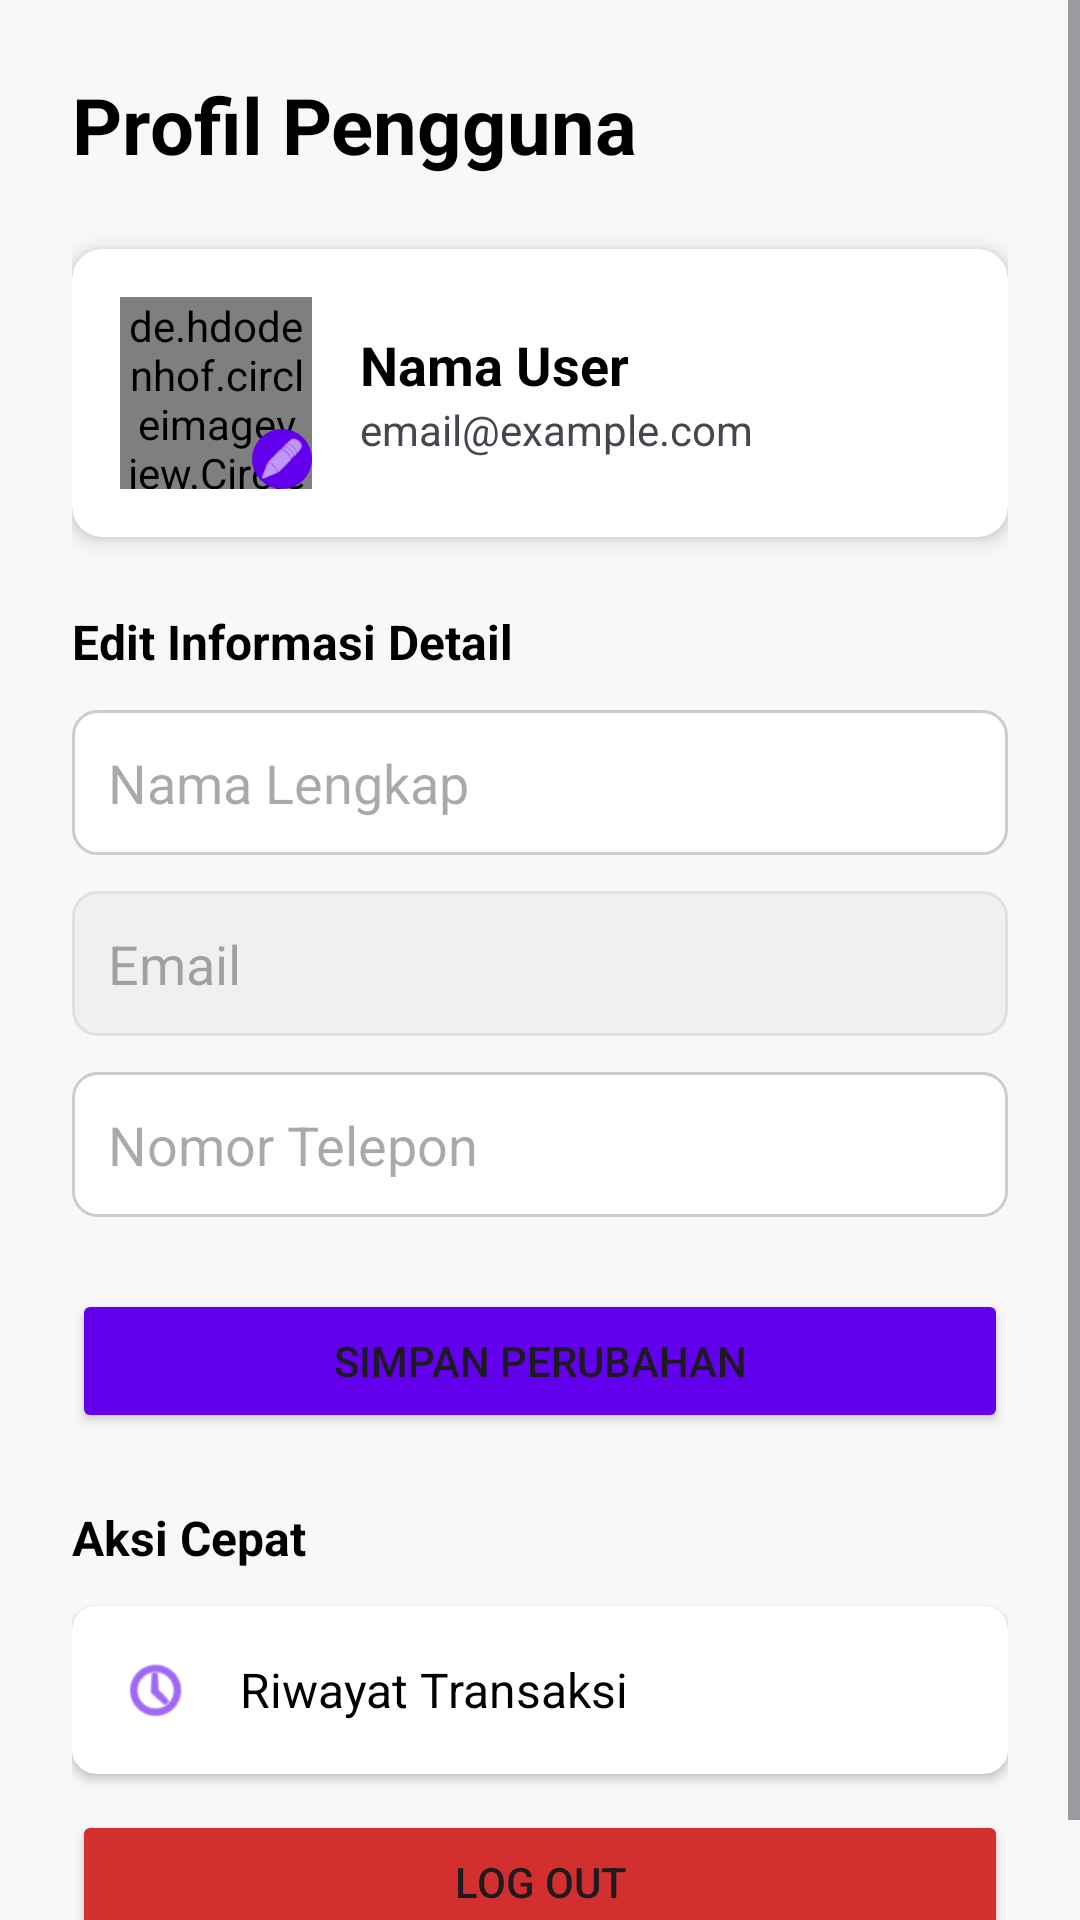

Icon bounding boxes for this 1080px x 1920px phone screenshot, format (x1, y1, x2, y2):
recent history: (129, 1664, 182, 1716)
